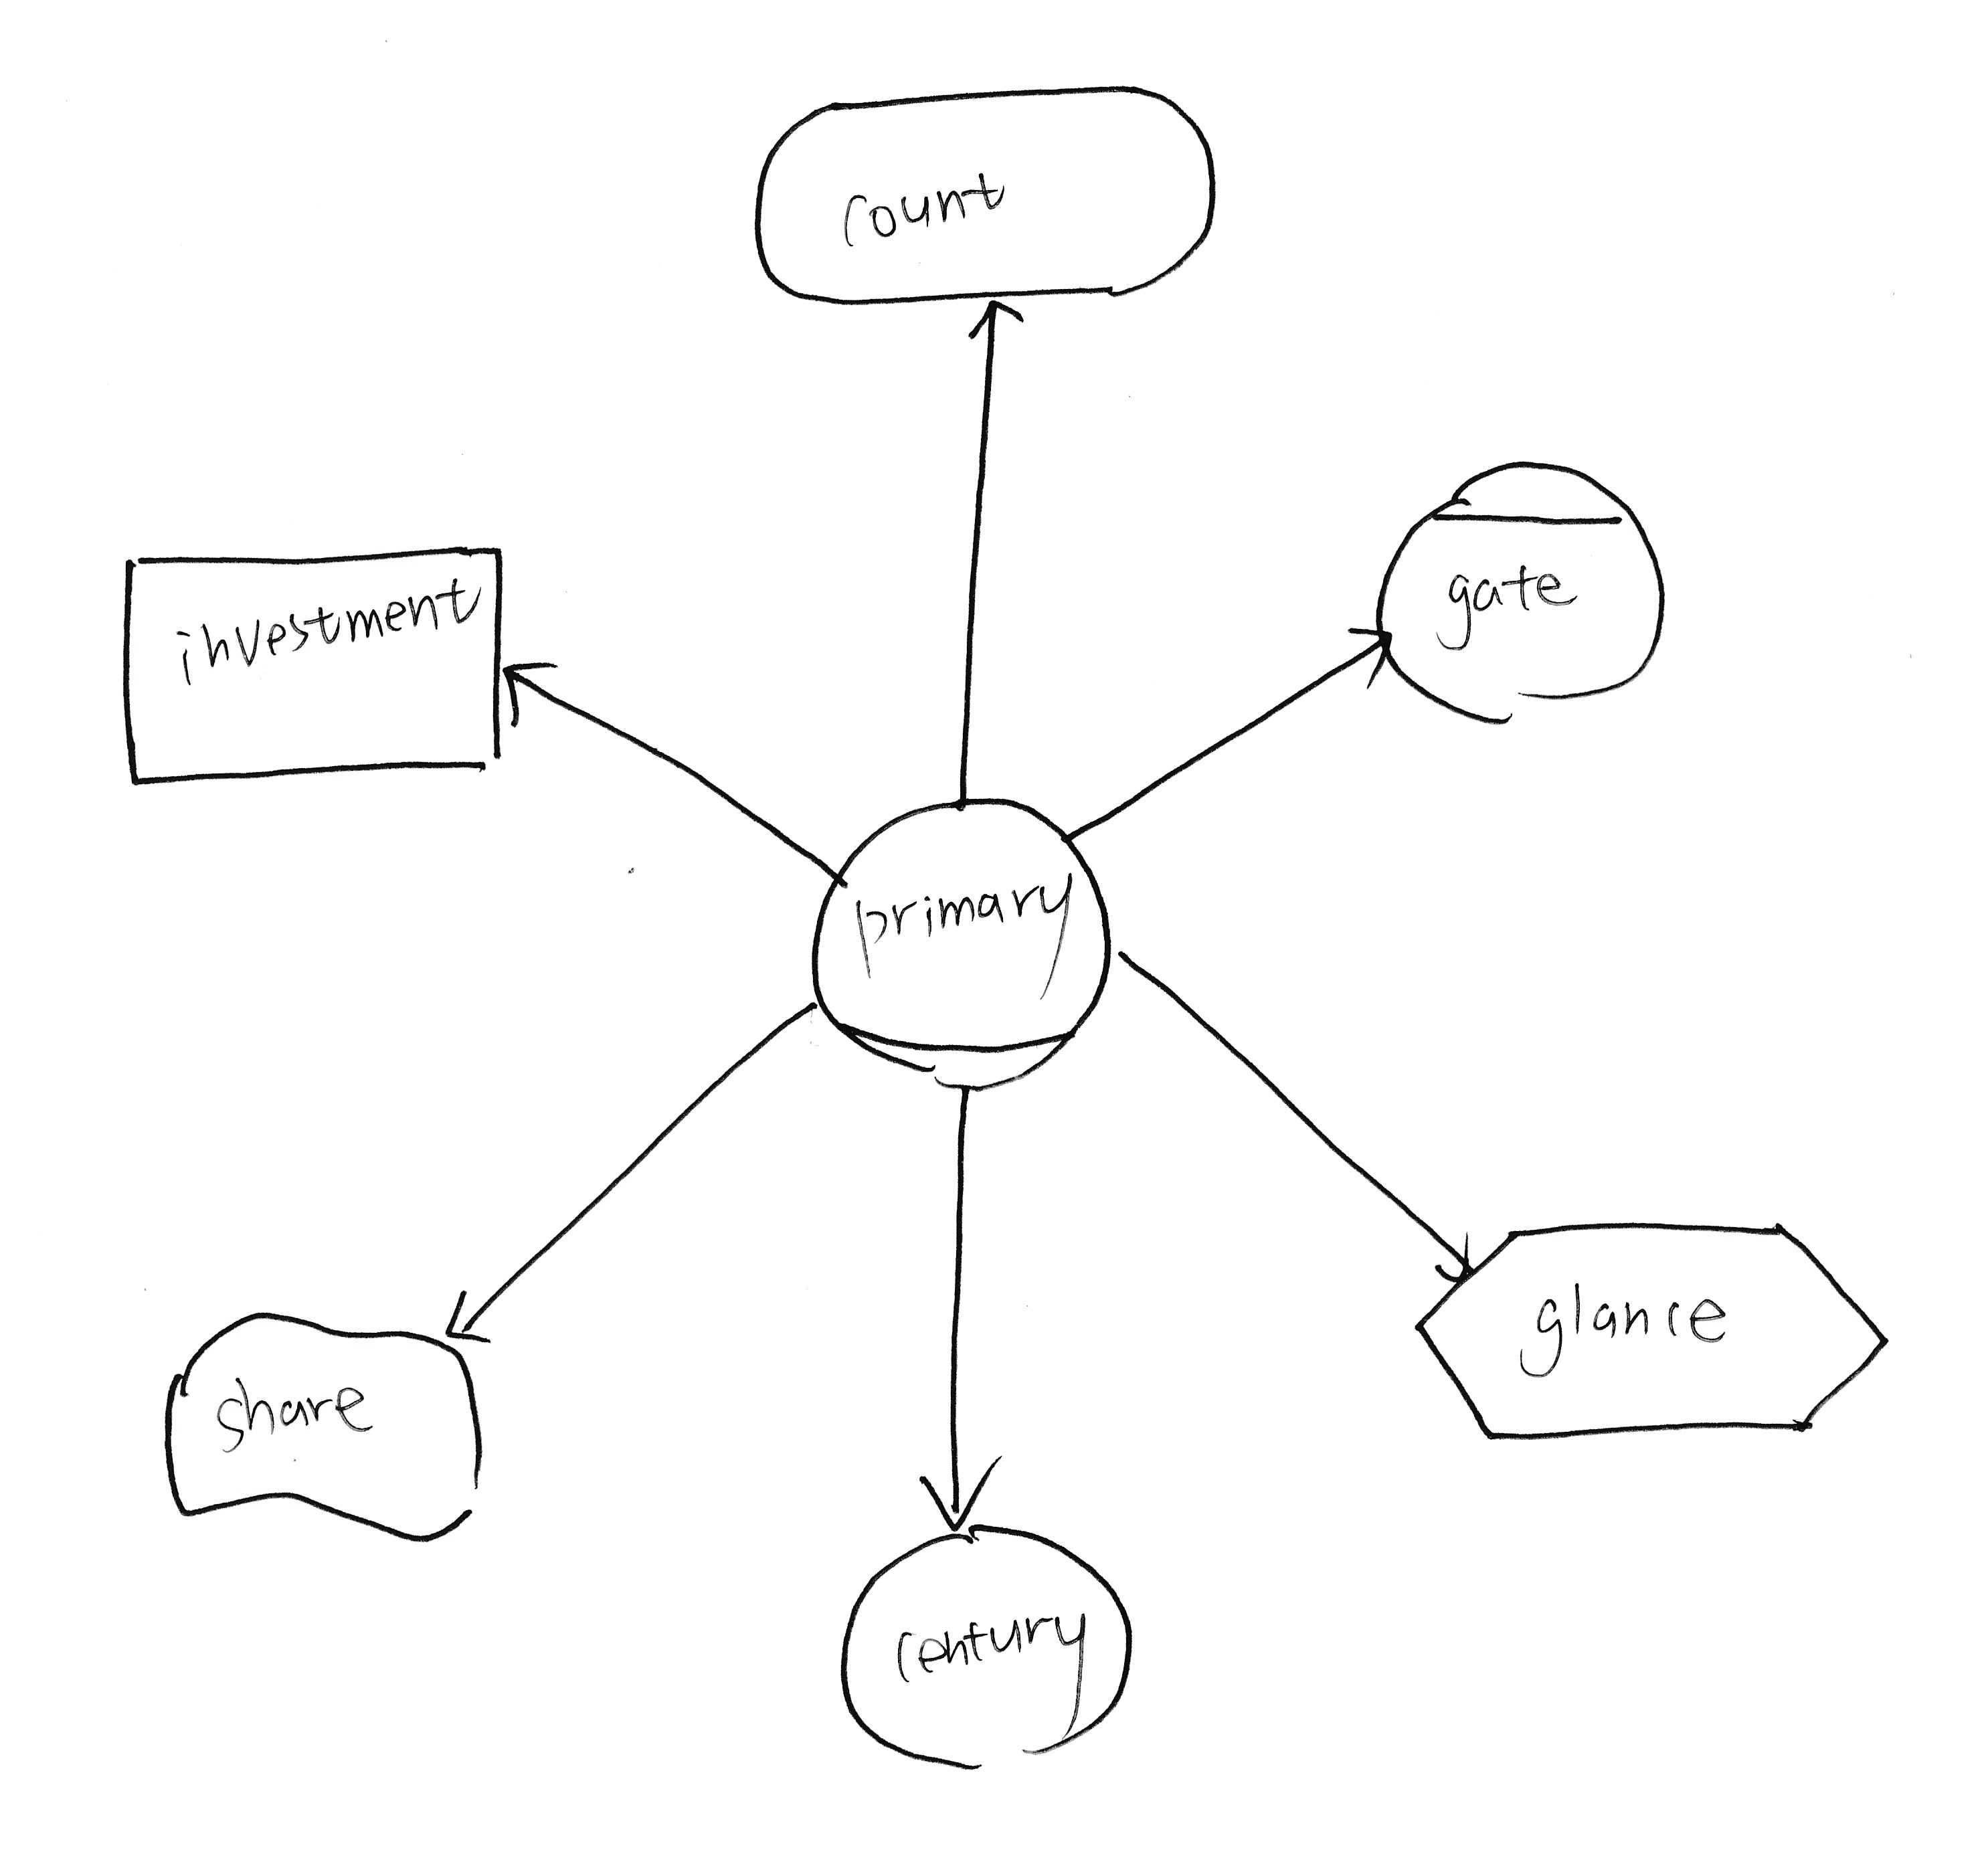actor: (822, 1507, 1151, 1786)
agent: (1346, 435, 1683, 741)
arrow: (898, 1450, 1022, 1544), (425, 1258, 512, 1366), (475, 641, 566, 738), (1335, 599, 1401, 700), (1422, 1215, 1494, 1305), (959, 284, 1039, 364)
goal: (733, 71, 1243, 329)
quality: (139, 1285, 507, 1561)
resource: (99, 522, 534, 815)
role: (787, 778, 1140, 1111)
task: (1389, 1196, 1913, 1464)
